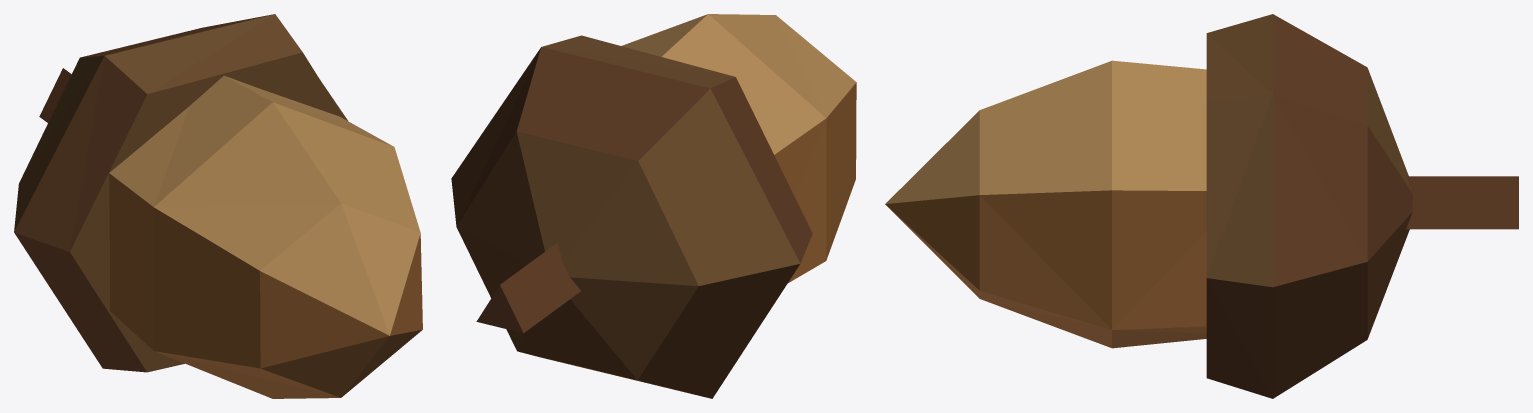
File: acorn.glb
3 renders of one model, left to right at view 1: azimuth 30°, elevation 25°; view 2: azimuth 150°, elevation 25°; view 3: azimuth 270°, elevation 25°, orthographic. The views are drawn at different scales.
Visible parts, largest first — view 1: acorn; view 2: acorn; view 3: acorn.
Boxes of the visible parts, x1,y1,x2,y2 form: acorn: (14,14,422,398); acorn: (451,14,856,398); acorn: (885,14,1518,398).
Bounding box in the file's own units: 0.0832 × 0.0708 × 0.134.
